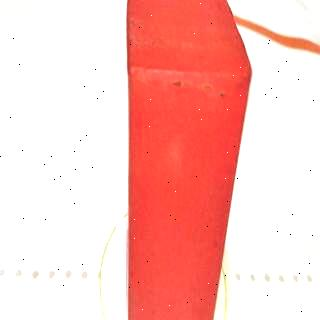redbox: (126, 0, 253, 320)
